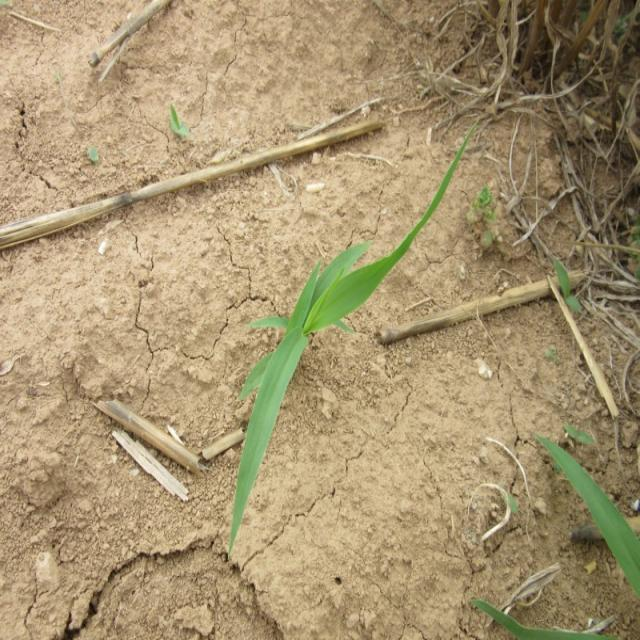bg: (222, 139, 469, 556)
